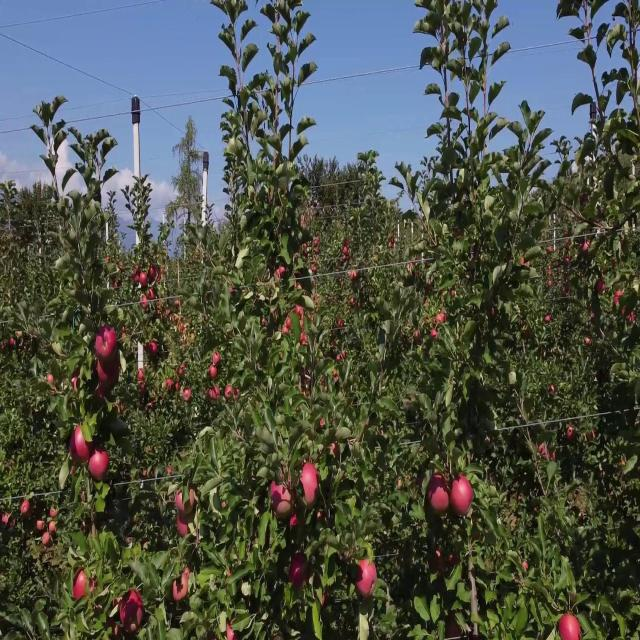apple: (120, 590, 144, 633), (452, 476, 474, 517), (300, 462, 320, 505), (428, 476, 450, 514), (272, 483, 295, 519), (356, 561, 377, 597), (292, 554, 311, 590), (76, 568, 96, 601), (560, 611, 582, 639), (76, 426, 93, 462), (96, 327, 116, 357), (92, 447, 109, 482), (428, 547, 446, 576), (176, 490, 196, 514), (100, 362, 120, 384), (80, 575, 98, 599), (172, 583, 188, 604), (448, 618, 463, 639), (20, 497, 32, 519), (108, 618, 121, 638), (180, 519, 191, 540), (96, 383, 107, 404), (184, 568, 192, 596), (208, 362, 220, 379), (292, 511, 305, 526), (472, 519, 481, 540), (72, 369, 80, 391), (296, 305, 304, 327), (48, 376, 57, 395), (296, 305, 304, 325), (596, 277, 606, 293), (140, 369, 147, 391), (212, 383, 220, 402), (148, 341, 158, 356), (276, 270, 287, 283), (228, 625, 238, 639), (36, 519, 46, 533), (332, 440, 340, 457), (616, 291, 624, 306), (284, 319, 292, 334), (452, 554, 460, 569), (568, 426, 576, 441), (184, 391, 192, 405), (300, 334, 308, 347), (116, 405, 125, 416), (212, 355, 221, 364), (588, 433, 596, 443), (84, 526, 91, 537), (52, 511, 59, 519)
